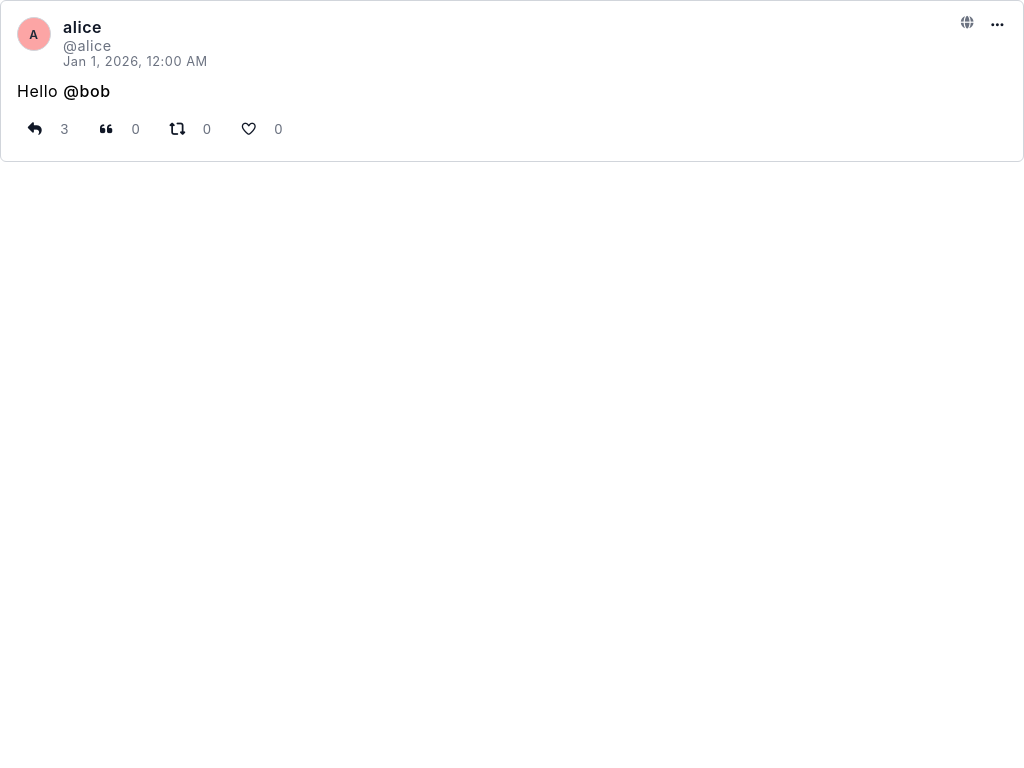
it: ActivityCard › flattens nested replies into one thread per root reply
The width and height of the screenshot is (1024, 768).
Click the button with class "activity-card__count" showing "3" at (64, 129), box left=52, top=117, right=76, bottom=141
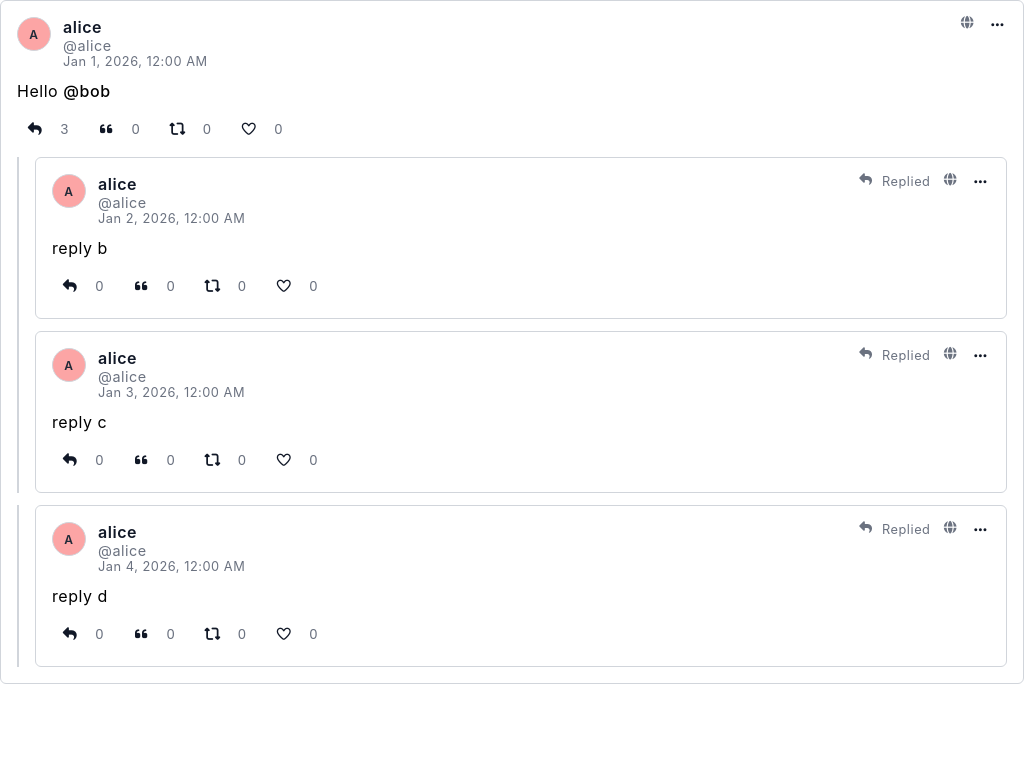
expect the number of elements with class "activity-card__thread" is 2: met, box left=17, top=157, right=1007, bottom=493; left=17, top=505, right=1007, bottom=667
expect the element with class "activity-card__thread" shows "reply b": met, box left=52, top=238, right=108, bottom=258
expect the element with class "activity-card__thread" shows "reply c": met, box left=52, top=412, right=107, bottom=432
